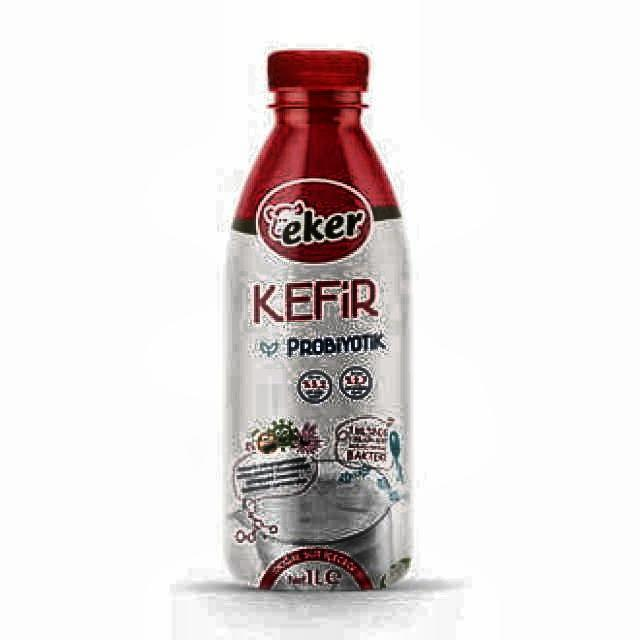plastic: (220, 51, 418, 595)
